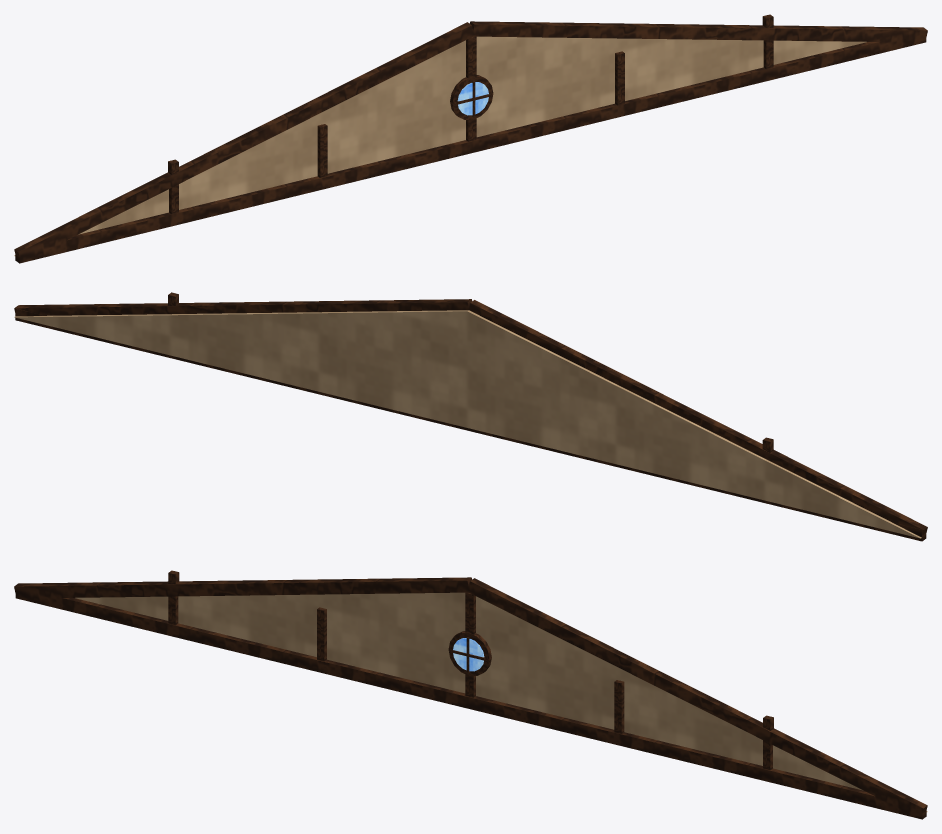
Rendered from gable_wall.glb.
The picture shows the model from 3 angles, top to bottom: view 1: azimuth 30°, elevation 25°; view 2: azimuth 150°, elevation 25°; view 3: azimuth 330°, elevation 25°; orthographic projection.
Parts seen in each view (by area): view 1: gable_wall__K_plaster, gable_wall__K_darkwood, gable_wall__K_magic; view 2: gable_wall__K_plaster, gable_wall__K_darkwood; view 3: gable_wall__K_plaster, gable_wall__K_darkwood, gable_wall__K_magic.
Boxes of the visible parts, <box> form: gable_wall__K_plaster: <box>14,36,866,255</box>; gable_wall__K_darkwood: <box>14,14,927,263</box>; gable_wall__K_magic: <box>457,82,488,115</box>; gable_wall__K_plaster: <box>14,310,921,538</box>; gable_wall__K_darkwood: <box>14,292,927,541</box>; gable_wall__K_plaster: <box>75,592,927,811</box>; gable_wall__K_darkwood: <box>14,570,927,819</box>; gable_wall__K_magic: <box>453,638,484,671</box>.
Bounding box in the file's own units: 24.47 × 3.3 × 0.32.
Materials: 3 (3 with a texture image).
